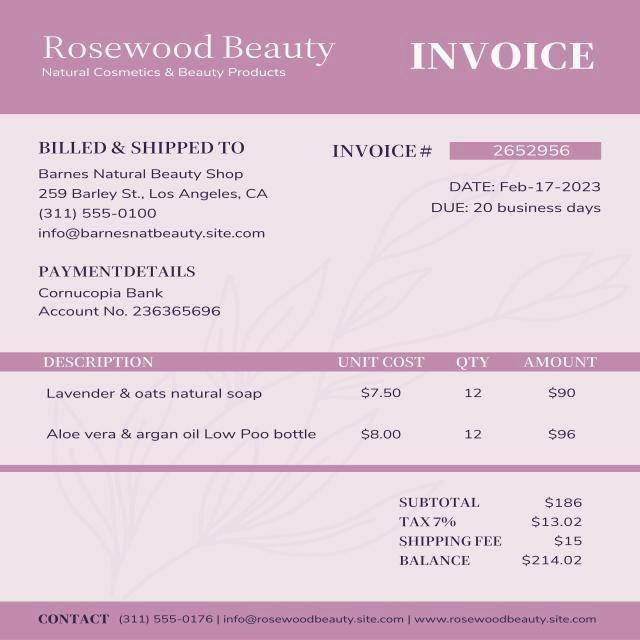paragraph: (32, 135, 273, 240), (328, 138, 610, 217), (395, 489, 590, 574), (35, 30, 342, 82), (34, 605, 602, 629), (34, 260, 235, 322), (404, 38, 599, 76)
table: (37, 352, 616, 460)
